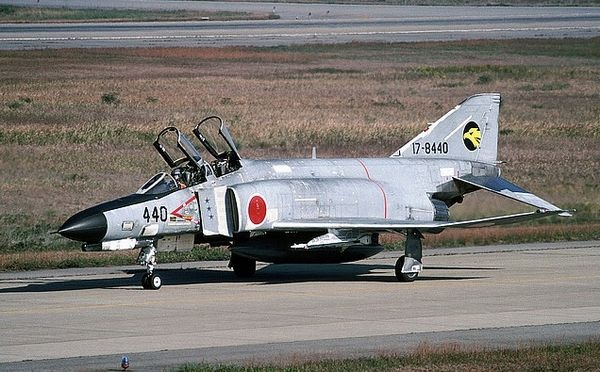airplane: (43, 87, 574, 291)
